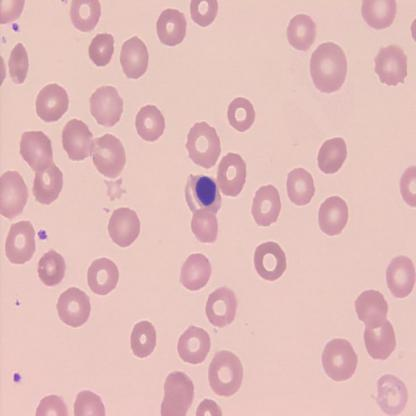NRC: (194, 172, 218, 208)
